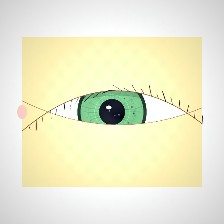pinguecula_lesion: (144, 95, 180, 124)
